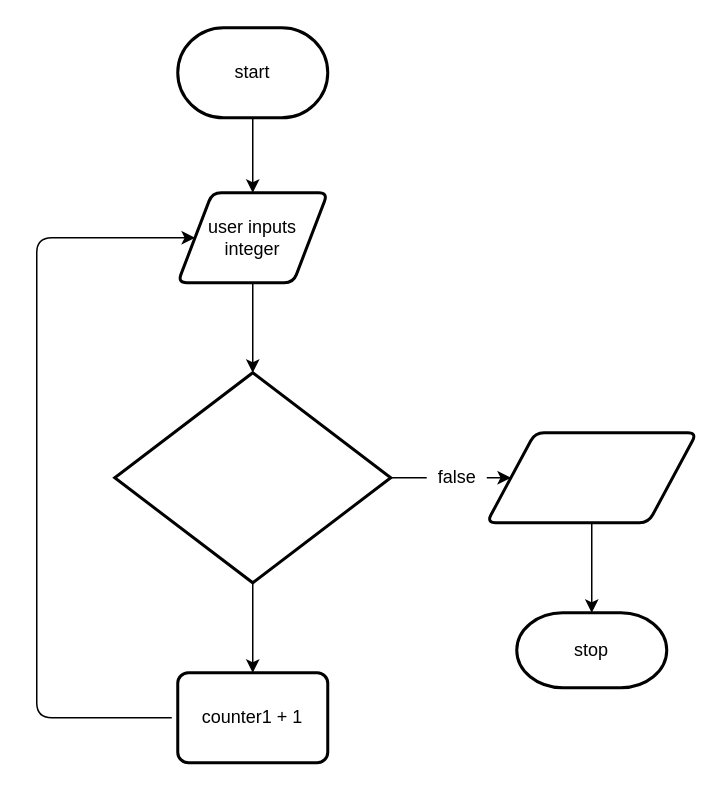
This 725x789 diagram has some shape labels left out. The shapes that lost their labels are listed below. From the top down, each one's centre as x and y in pixels, then its label:
the point at 252,477: counter1 <= userNumber
the point at 591,477: print "The answer is:" + sum
